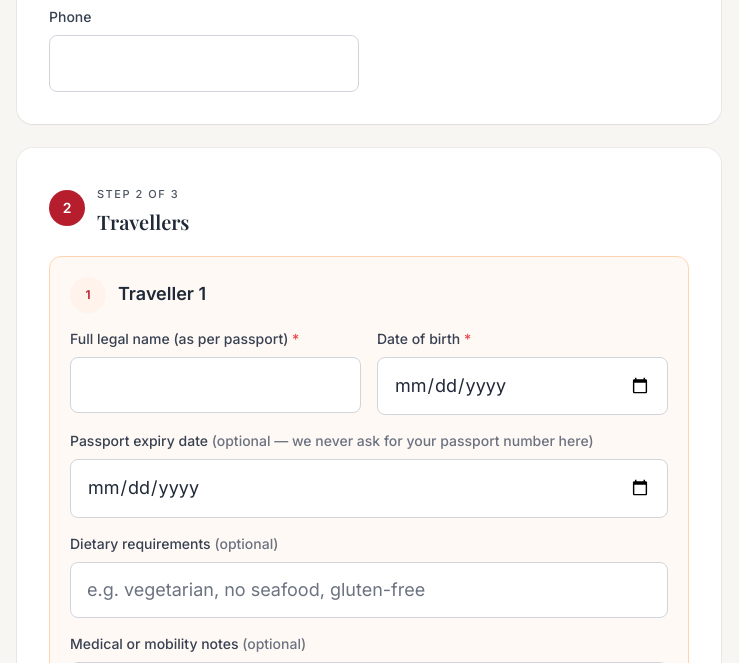
Scenario: date of birth checks › flags a passport expiry year that cannot be right
(page scrolled)
Step 1. Type "Alice" into the field with id "fullName-0" → x=216, y=385, box [70,356,361,413]
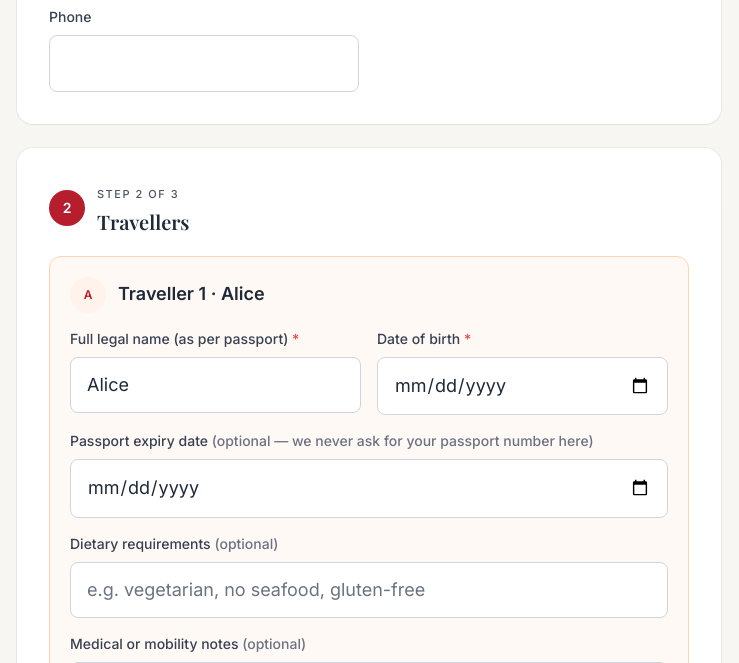
Step 2. Type "1960-01-01" into the date field labelled "Date of birth *" → x=522, y=386, box [377,356,668,415]
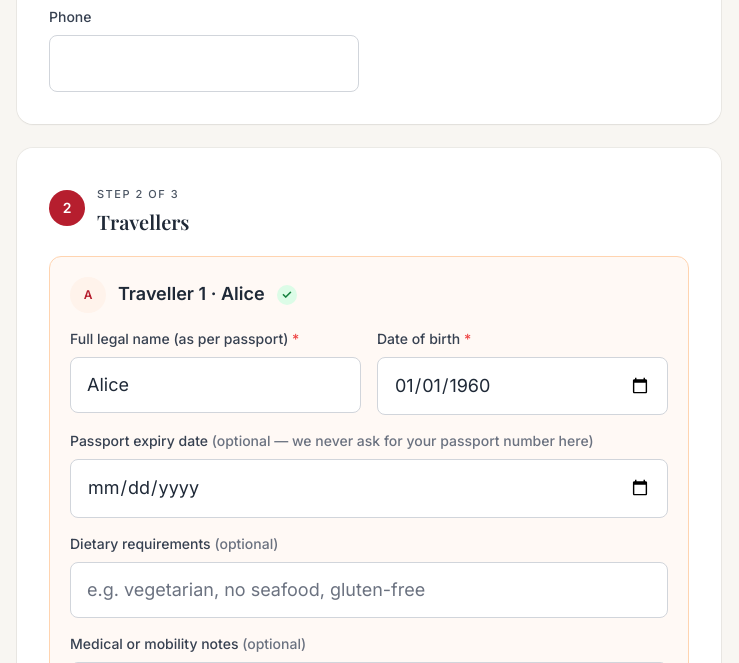
Step 3. Type "2099-01-01" into the 2nd date field → x=369, y=488, box [70,459,668,518]
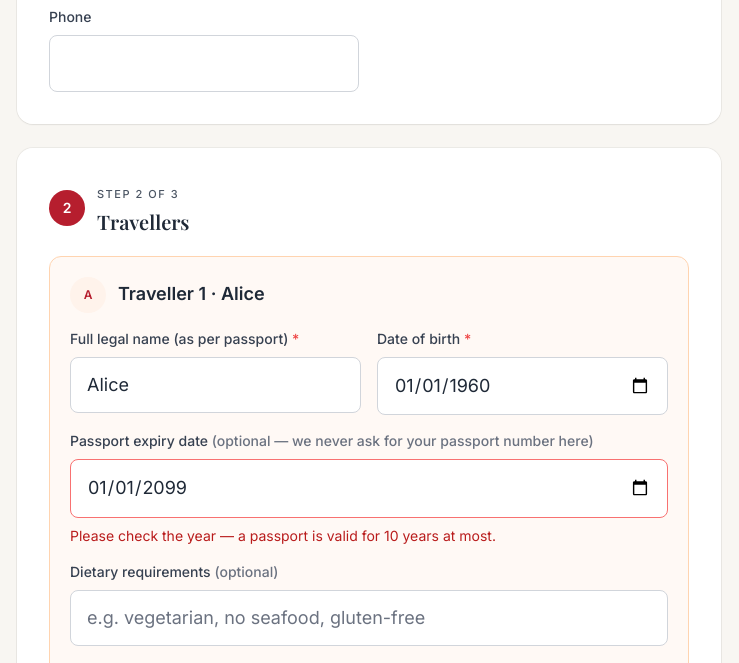
Expected: the text "Please check the year — a passport is valid for 10 years at most." is shown, [70,527,496,544]
